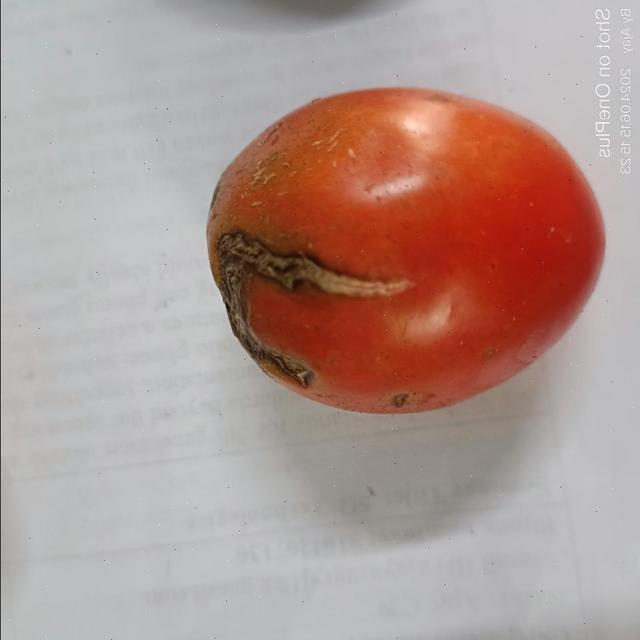Cracking Fruit: (98, 101, 370, 296)
